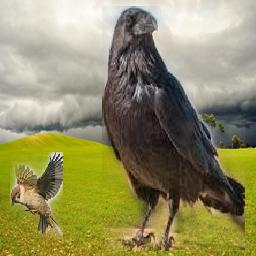Crow: (103, 7, 246, 252)
Sparrow: (11, 152, 64, 240)
